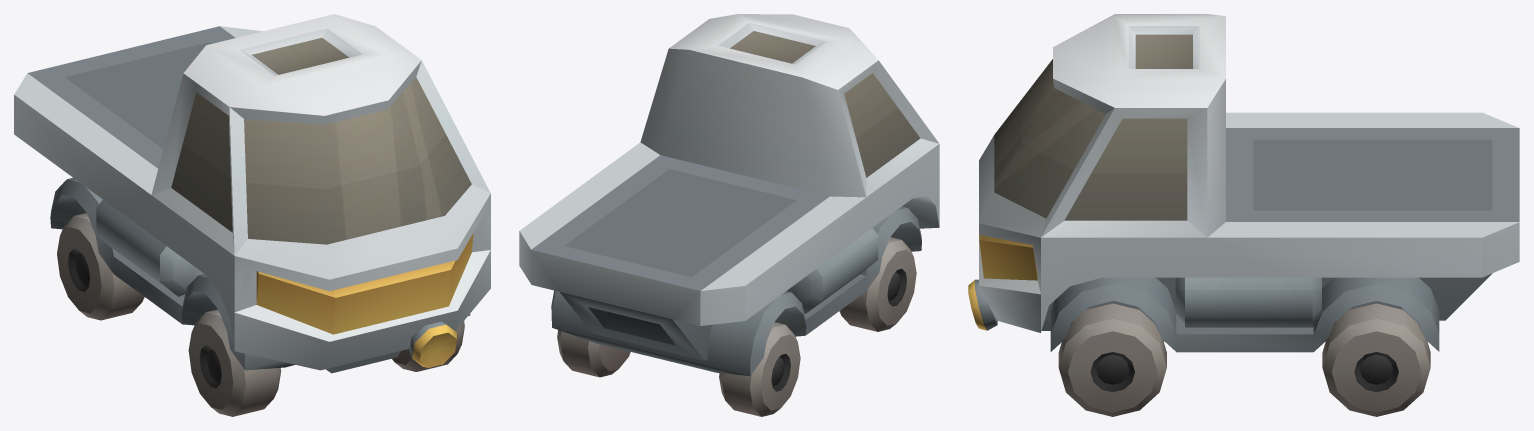
File: spacetruck.glb
3 renders of one model, left to right at view 1: azimuth 30°, elevation 25°; view 2: azimuth 150°, elevation 25°; view 3: azimuth 270°, elevation 25°, orthographic. The views are drawn at different scales.
Parts seen in each view (by area): view 1: Cube.15125, spacetruck_wheel_front_right, spacetruck_wheel_rear_right, spacetruck_wheel_front_left; view 2: Cube.15125, spacetruck_wheel_rear_right, spacetruck_wheel_front_right, spacetruck_wheel_rear_left; view 3: Cube.15125, spacetruck_wheel_front_left, spacetruck_wheel_rear_left.
Part boxes in pixels (bbox=[...]): Cube.15125: bbox=[14, 14, 490, 373]; spacetruck_wheel_front_right: bbox=[188, 309, 281, 416]; spacetruck_wheel_rear_right: bbox=[57, 213, 144, 320]; spacetruck_wheel_front_left: bbox=[392, 321, 464, 371]; Cube.15125: bbox=[519, 14, 939, 375]; spacetruck_wheel_rear_right: bbox=[719, 322, 800, 416]; spacetruck_wheel_front_right: bbox=[839, 237, 916, 331]; spacetruck_wheel_rear_left: bbox=[557, 330, 630, 377]; Cube.15125: bbox=[968, 14, 1519, 352]; spacetruck_wheel_front_left: bbox=[1058, 303, 1166, 416]; spacetruck_wheel_rear_left: bbox=[1322, 303, 1430, 416].
Size of the model in its own units: 0.4895 by 0.5662 by 0.8933.
Materials: 1 (1 with a texture image).
